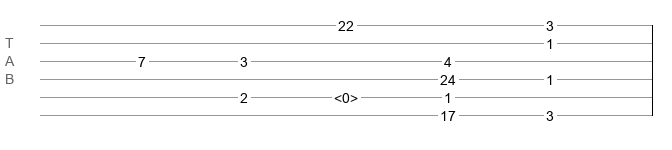1: (444, 90, 452, 100), (546, 72, 554, 82), (546, 36, 554, 46)
17: (440, 108, 456, 118)
2: (240, 90, 248, 100)
22: (338, 18, 354, 28)
24: (440, 72, 456, 82)
3: (240, 54, 248, 64), (546, 108, 554, 118), (546, 18, 554, 28)
4: (444, 54, 452, 64)
7: (138, 54, 146, 64)
harmonic: (334, 90, 358, 100)
